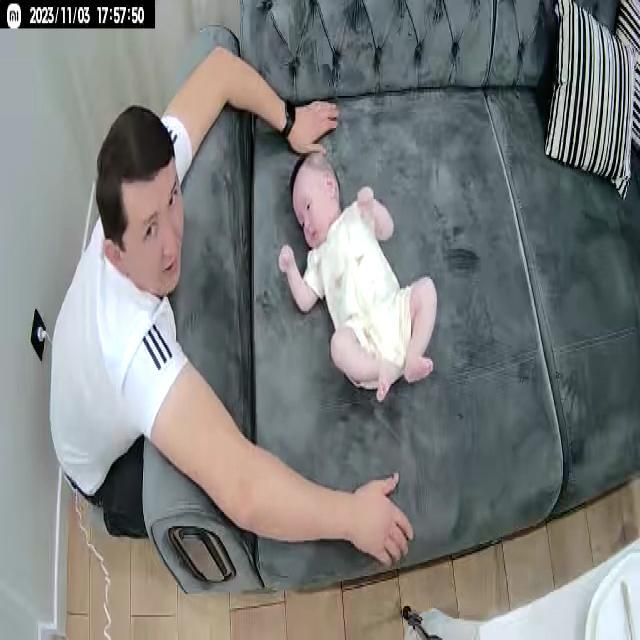baby: (278, 148, 438, 422)
